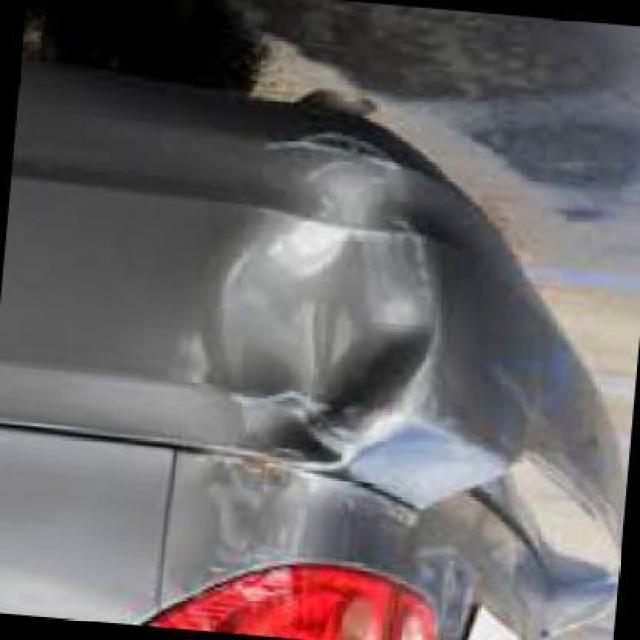dent: (225, 222, 435, 437)
